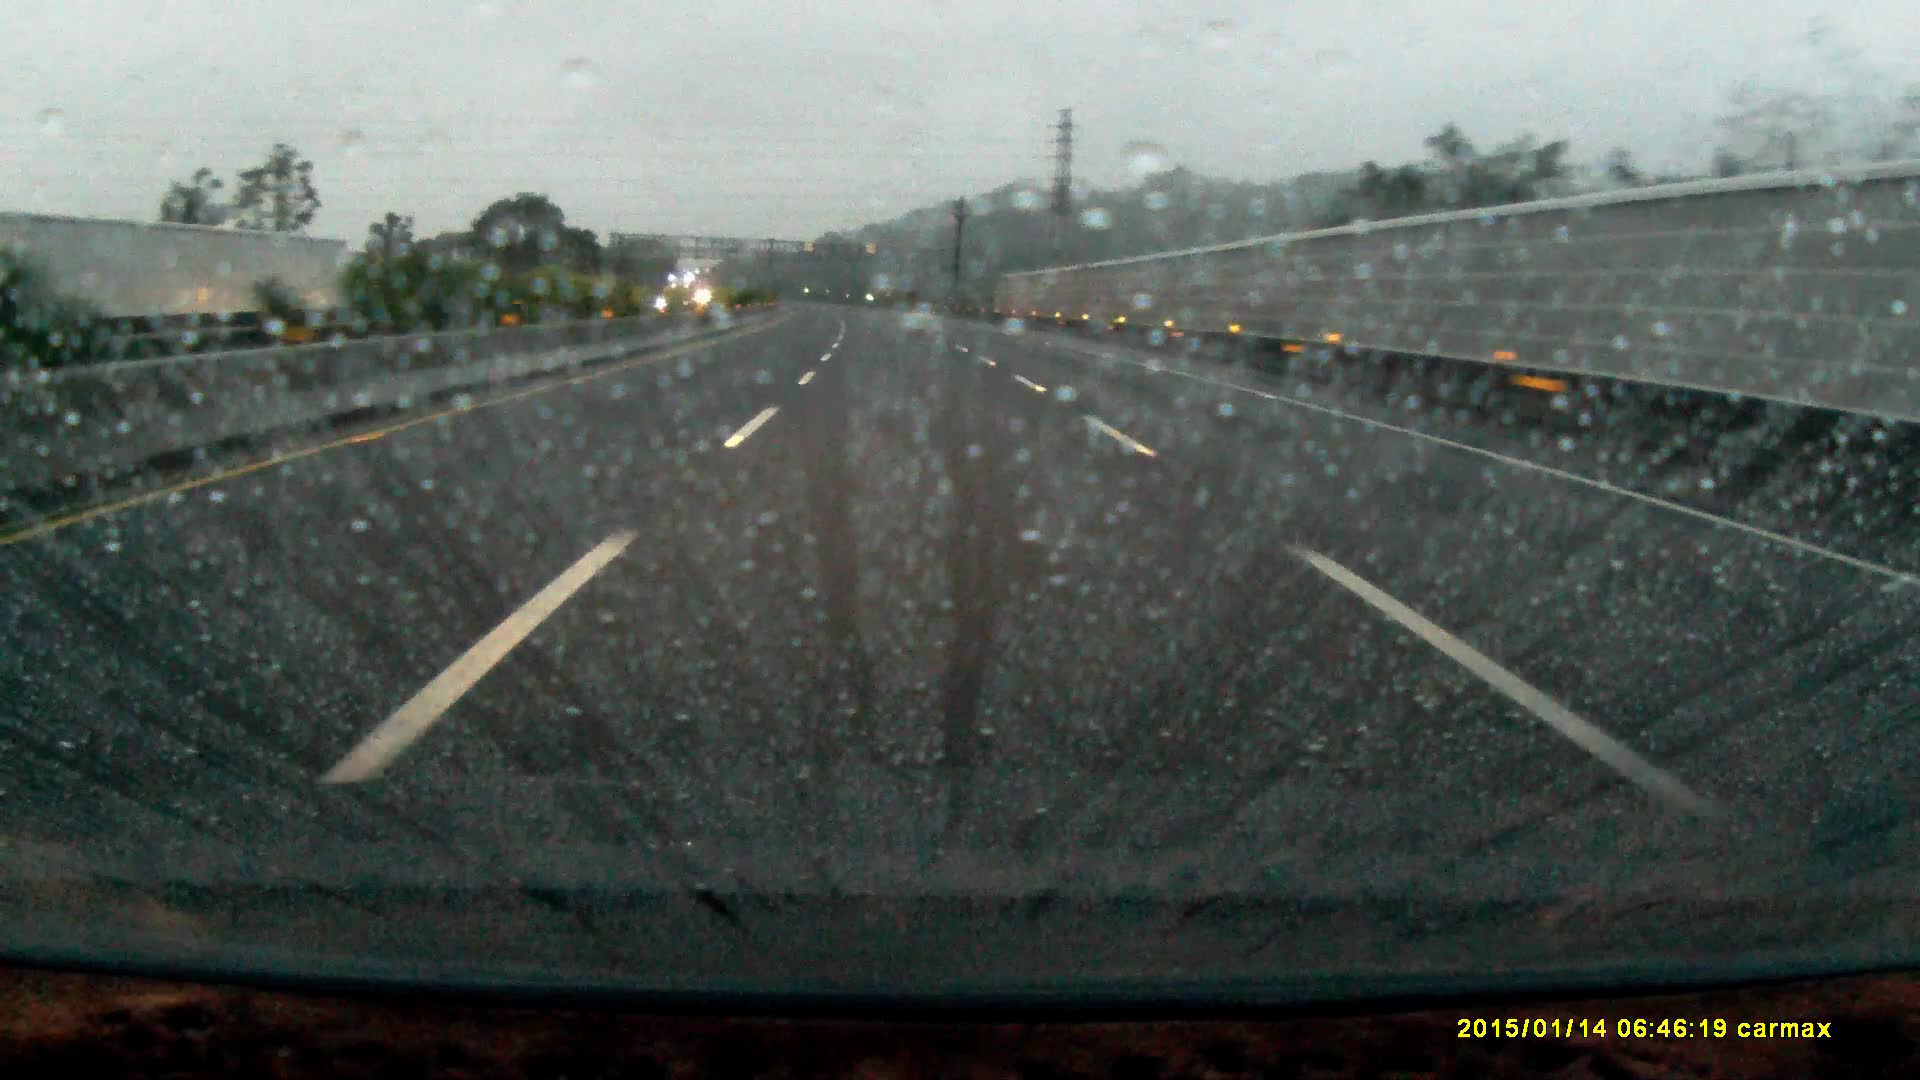vehicle: (665, 270, 700, 302)
